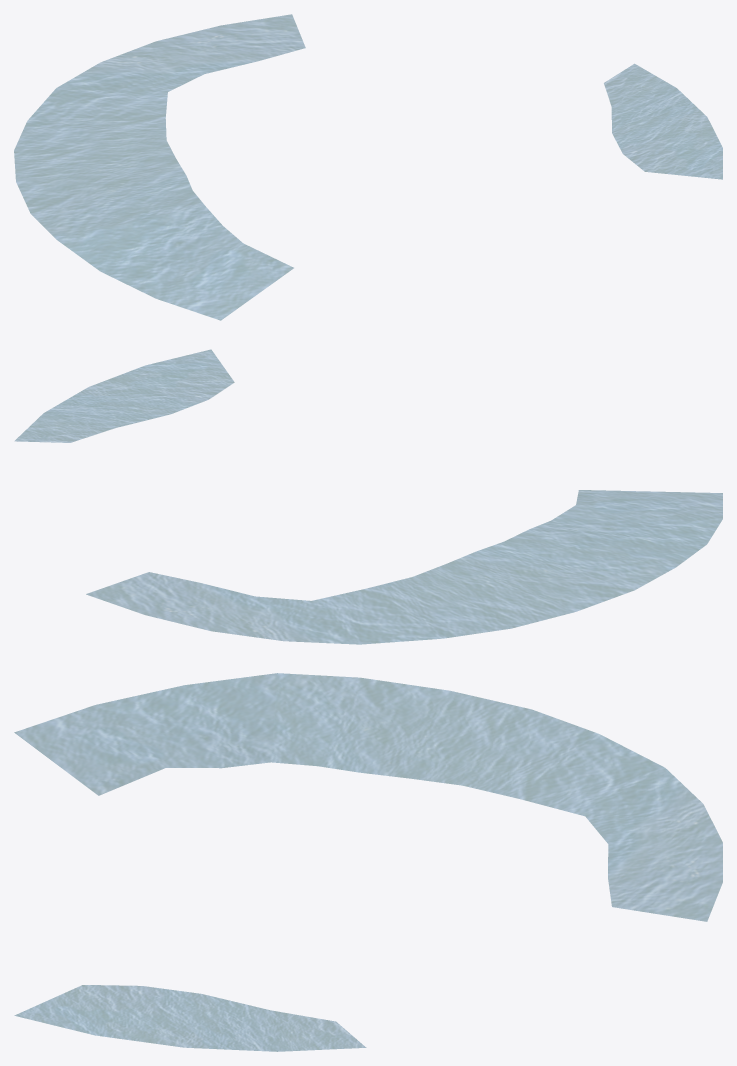
The model's file is River_Oasis.FBX.
The picture shows the model from 3 angles, top to bottom: view 1: azimuth 30°, elevation 25°; view 2: azimuth 150°, elevation 25°; view 3: azimuth 270°, elevation 25°; orthographic projection. The views are drawn at different scales.
Parts seen in each view (by area): view 1: Water; view 2: Water; view 3: Water.
Part boxes in pixels (<box>): Water: <box>14,14,722,320</box>; Water: <box>15,349,722,644</box>; Water: <box>14,673,722,1051</box>.
Bounding box in the file's own units: 6.23 × 0.1781 × 4.93.
1 material, 1 textured.
